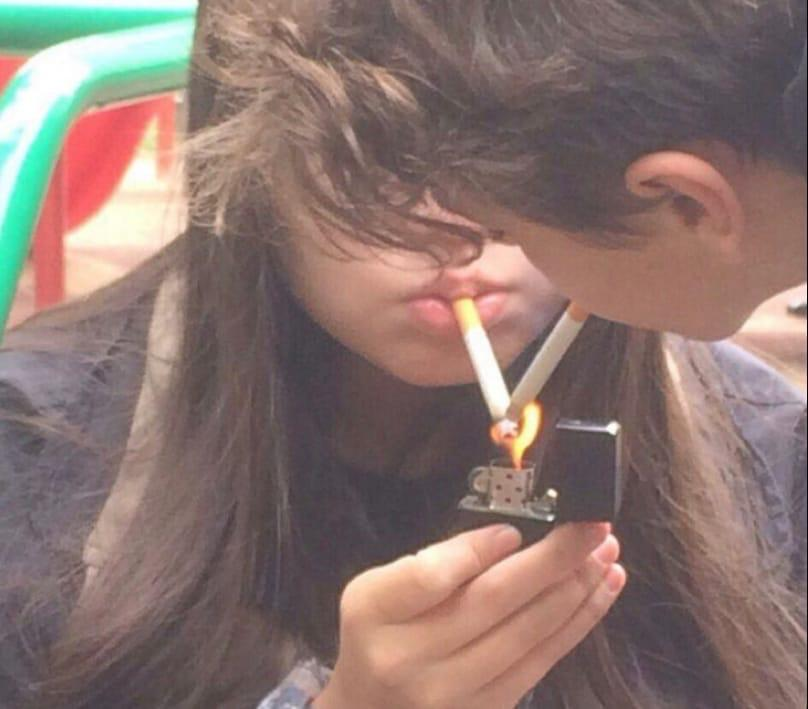cigarette: (505, 303, 592, 422), (453, 298, 510, 421)
